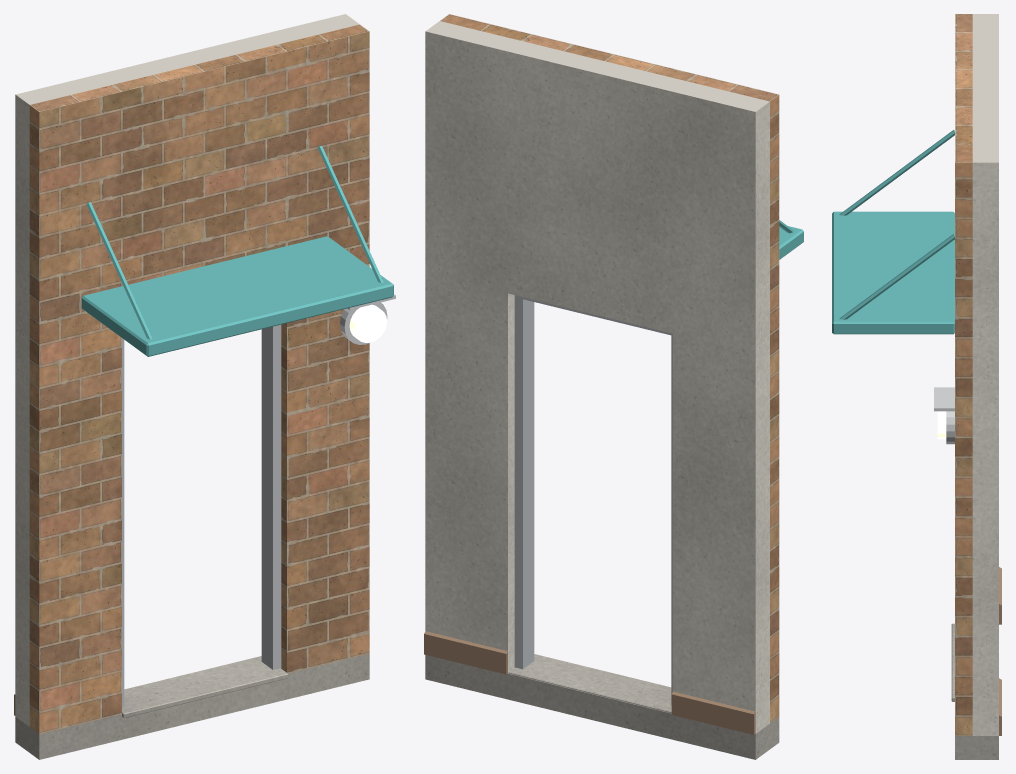
File: b_door.glb
3 renders of one model, left to right at view 1: azimuth 30°, elevation 25°; view 2: azimuth 150°, elevation 25°; view 3: azimuth 270°, elevation 25°, orthographic. The views are drawn at different scales.
Parts seen in each view (by area): view 1: b_door_brick, b_door_teal, b_door_plaster, b_door_concrete, b_door_steel, b_door_lamp_glass; view 2: b_door_plaster, b_door_concrete, b_door_brick, b_door_steel, b_door_trim, b_door_teal; view 3: b_door_plaster, b_door_teal, b_door_brick, b_door_concrete, b_door_metal, b_door_trim.
Boxes of the visible parts, box(x1,y1,x2,y2) form: b_door_brick: box(29, 24, 369, 733); b_door_teal: box(81, 146, 393, 356); b_door_plaster: box(15, 14, 359, 726); b_door_concrete: box(15, 653, 369, 759); b_door_steel: box(122, 324, 281, 706); b_door_lamp_glass: box(349, 304, 387, 342); b_door_plaster: box(425, 21, 769, 733); b_door_concrete: box(425, 654, 779, 759); b_door_brick: box(440, 14, 779, 723); b_door_steel: box(514, 295, 672, 705); b_door_trim: box(424, 631, 755, 734); b_door_teal: box(779, 220, 803, 259); b_door_plaster: box(972, 14, 998, 735); b_door_teal: box(832, 130, 954, 334); b_door_brick: box(955, 14, 972, 735); b_door_concrete: box(951, 623, 998, 759); b_door_metal: box(934, 387, 954, 444); b_door_trim: box(999, 567, 1001, 735).
Bounding box in the file's own units: 2.09 × 3.75 × 0.966.
Materials: 8 (3 with a texture image).
